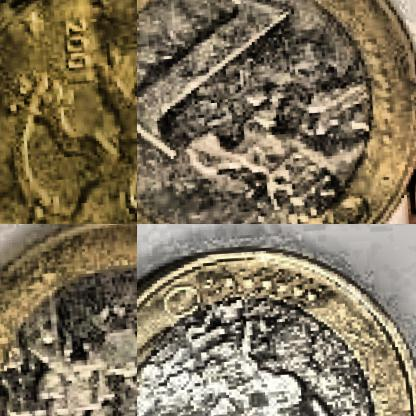coin: (137, 0, 415, 223), (137, 236, 415, 415), (0, 0, 136, 223), (0, 224, 136, 415)
